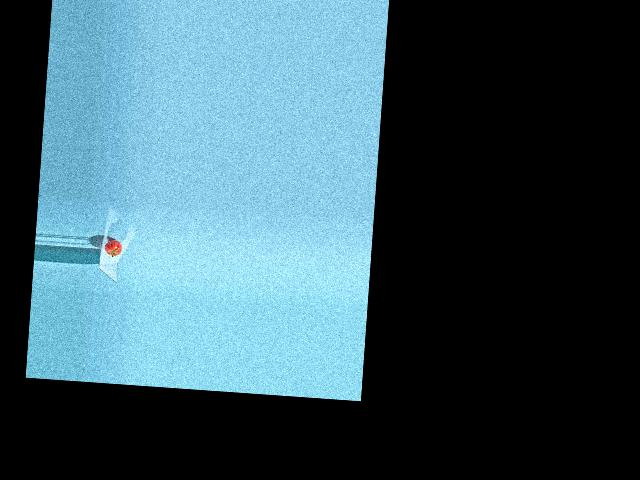tomato: (103, 239, 122, 256)
